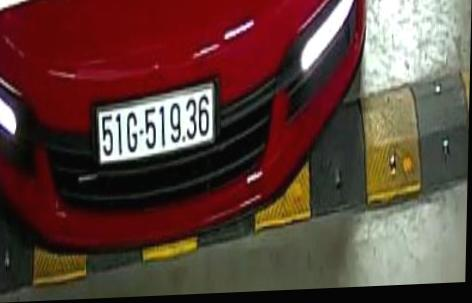License_Plate: (95, 89, 218, 165)
